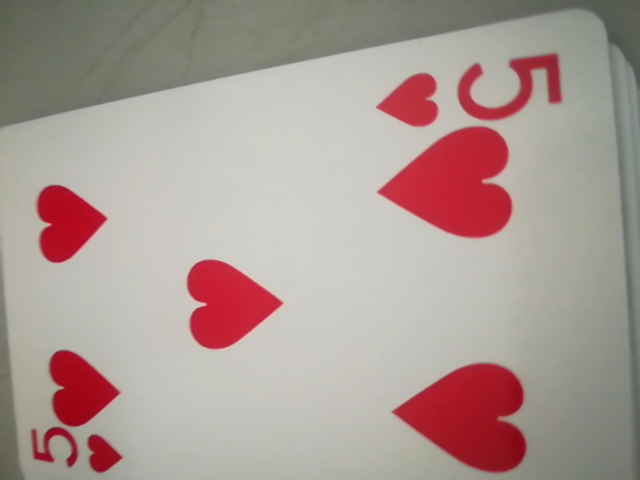hx 5: (374, 46, 570, 133)
